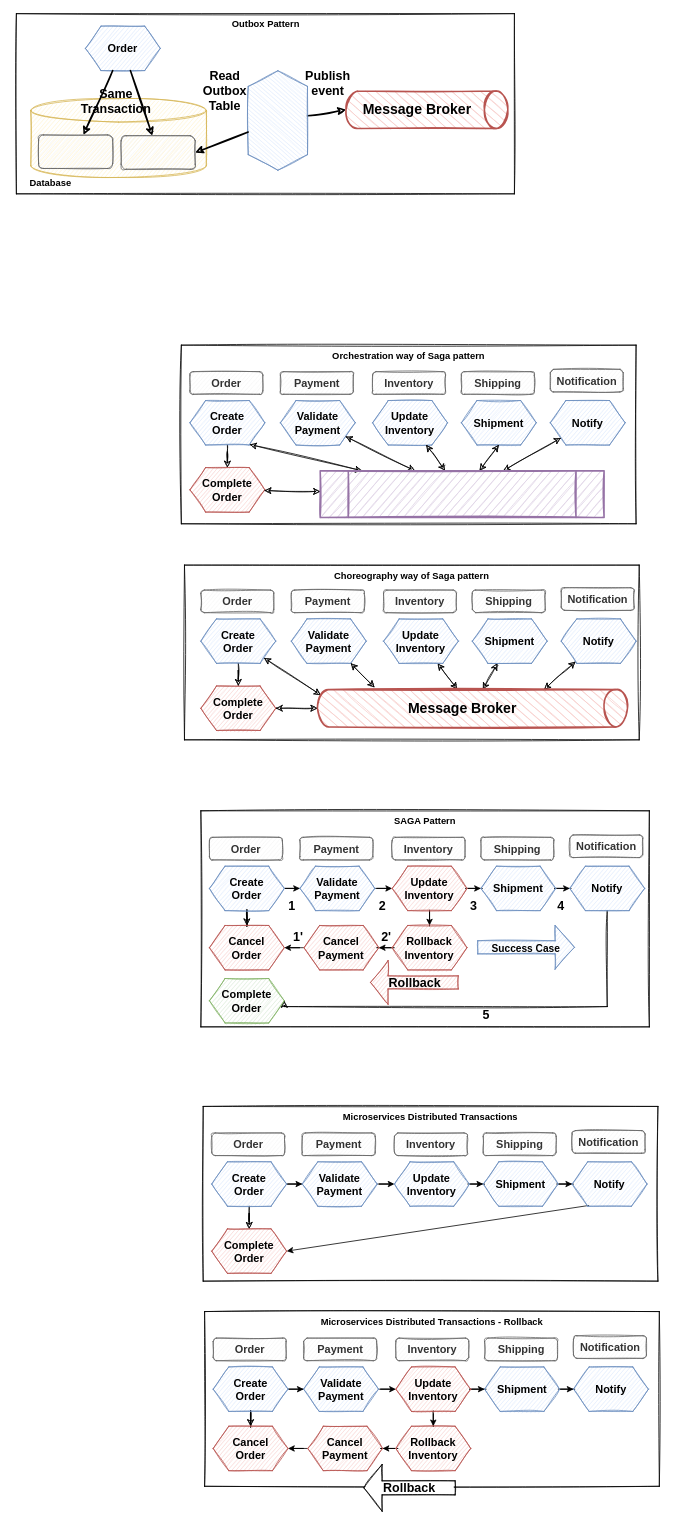
The diagram is 673 pixels wide and 1525 high, and some of its shapes have lost their labels. The shapes that lost their labels are listed below. From the top down, each one's centre as x and y in pixels, then its label:
At pixel 277 120: "Message Transmitter".
At pixel 75 151: "Order Table".
At pixel 157 152: "Outbox Table".
At pixel 461 494: "Orchestration".
